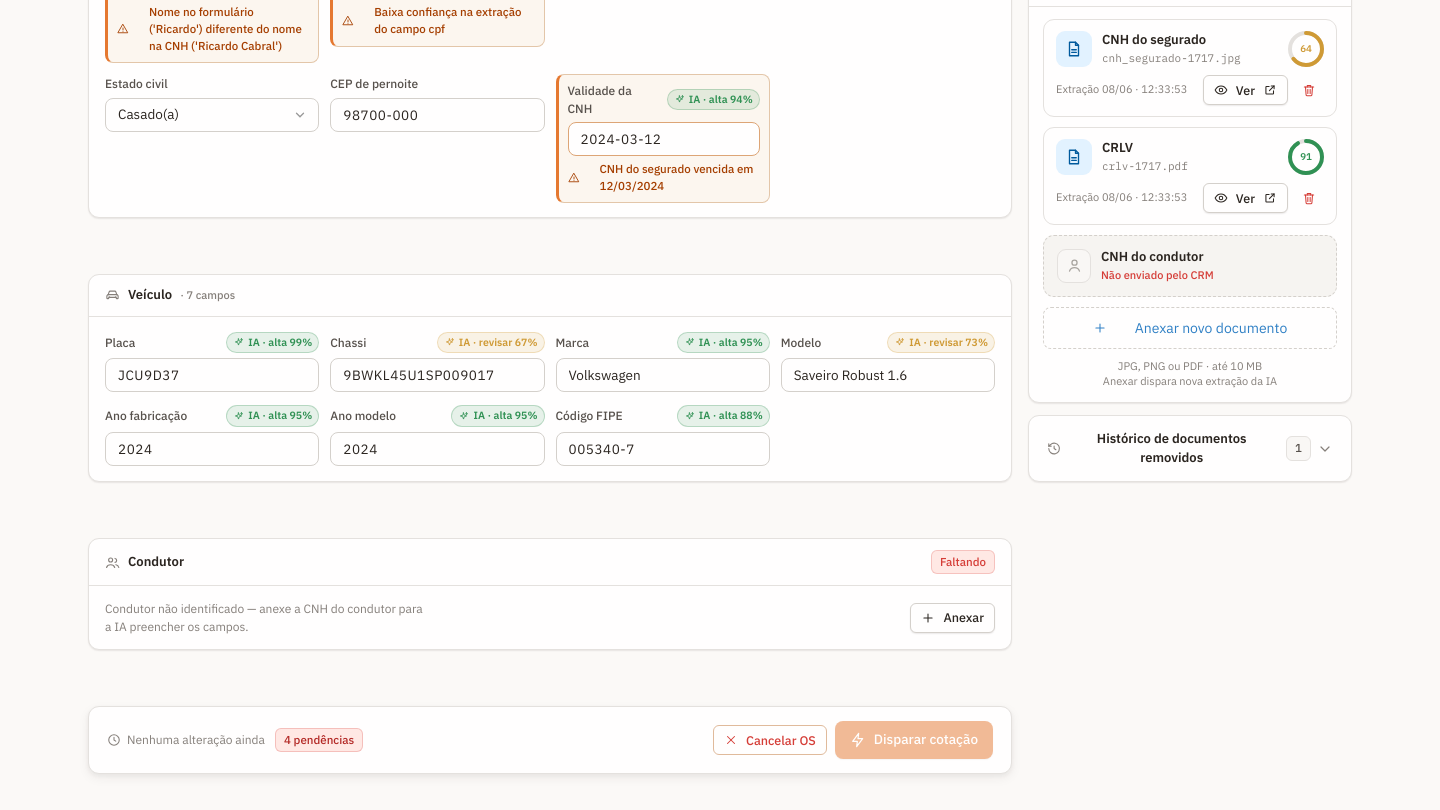
DetalheOS — estado revisao_manual › histórico de documentos removidos aparece em collapse (read-only)
(page scrolled)
Expected: the text "CNH do segurado" is shown, [1102, 31, 1206, 48]
Click the button "Histórico de documentos removidos 1". click: (1190, 449)
box: [1029, 416, 1351, 481]
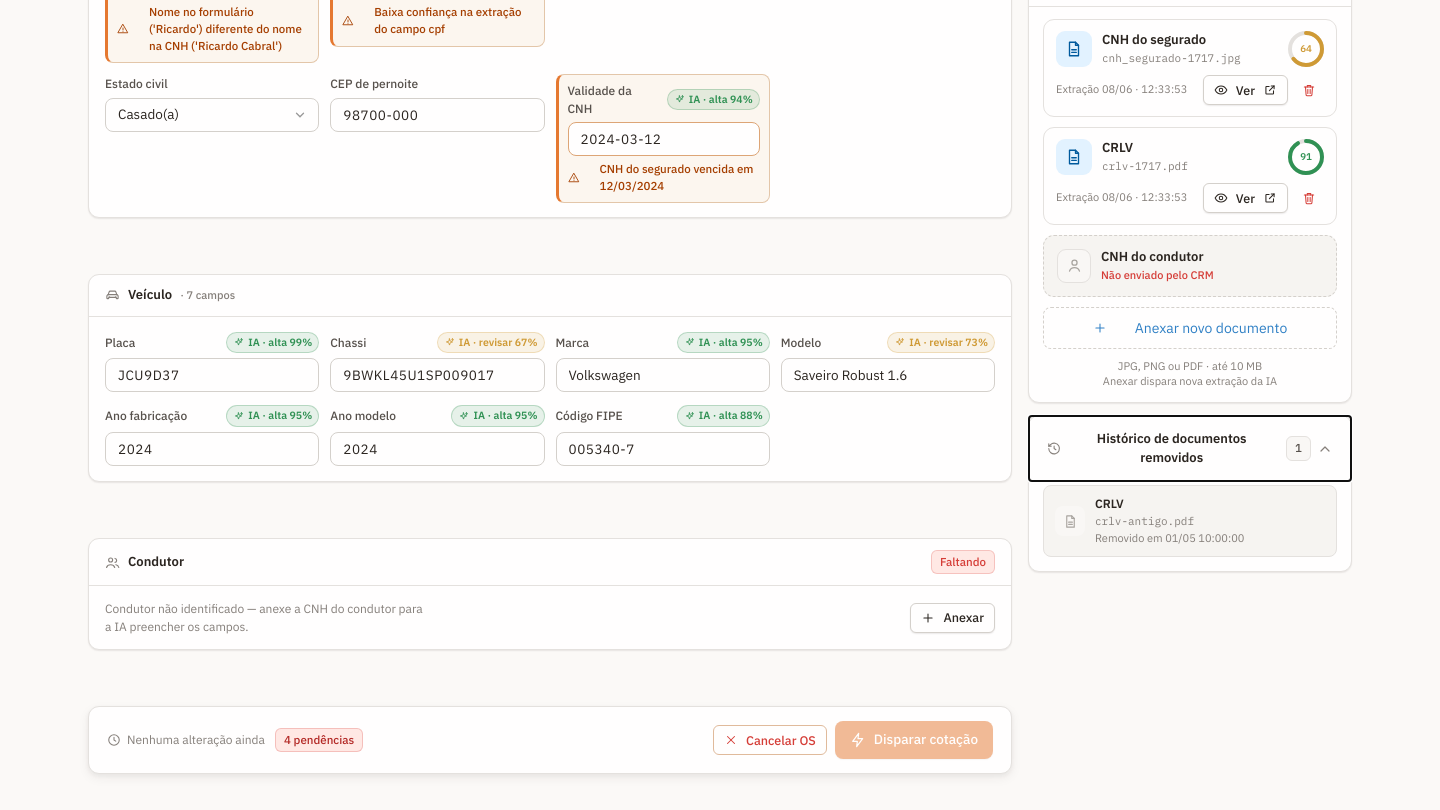
Result: the text "crlv-antigo.pdf" is shown at [1095, 514, 1194, 528]
Result: the text "Removido em 01/05 10:00:00" is shown at [1095, 531, 1244, 547]
